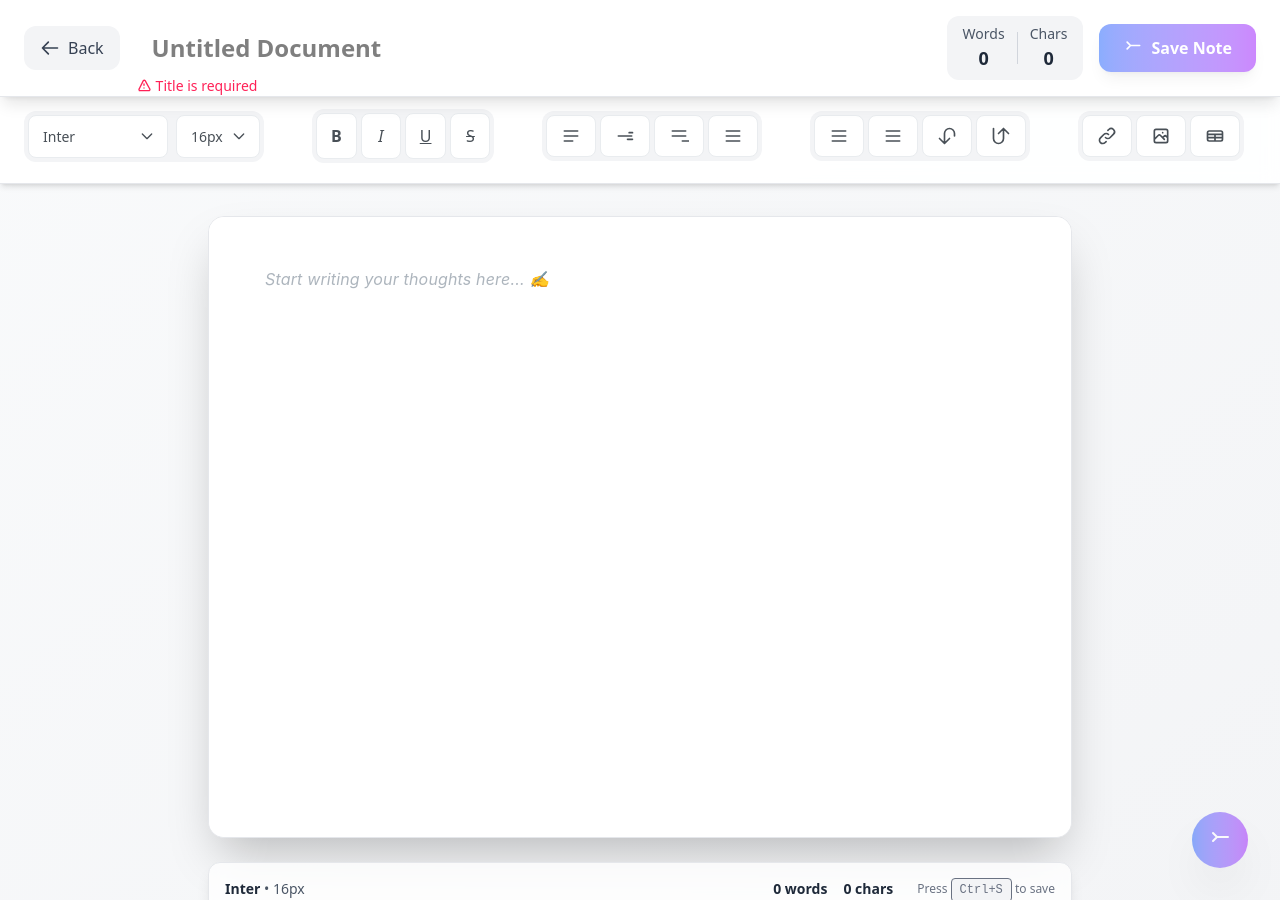
Test case: NoteForm Component › enables save button when title is provided
Type "My Note" into the field with placeholder "Untitled Document" at (336, 48), box x1=136 y1=24 x2=536 y2=72
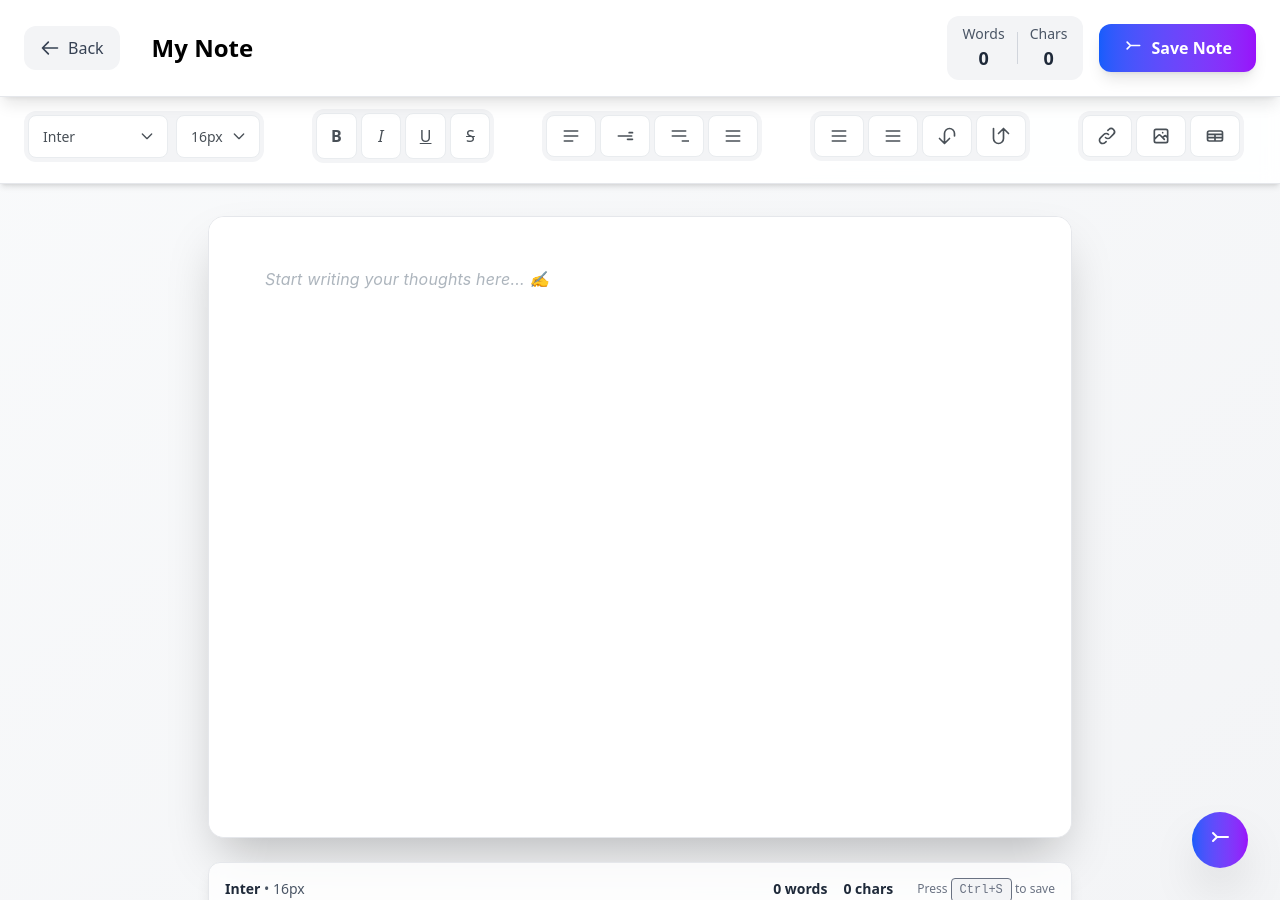
Expected: the button "Save Note" is enabled, x1=1100 y1=24 x2=1256 y2=72
